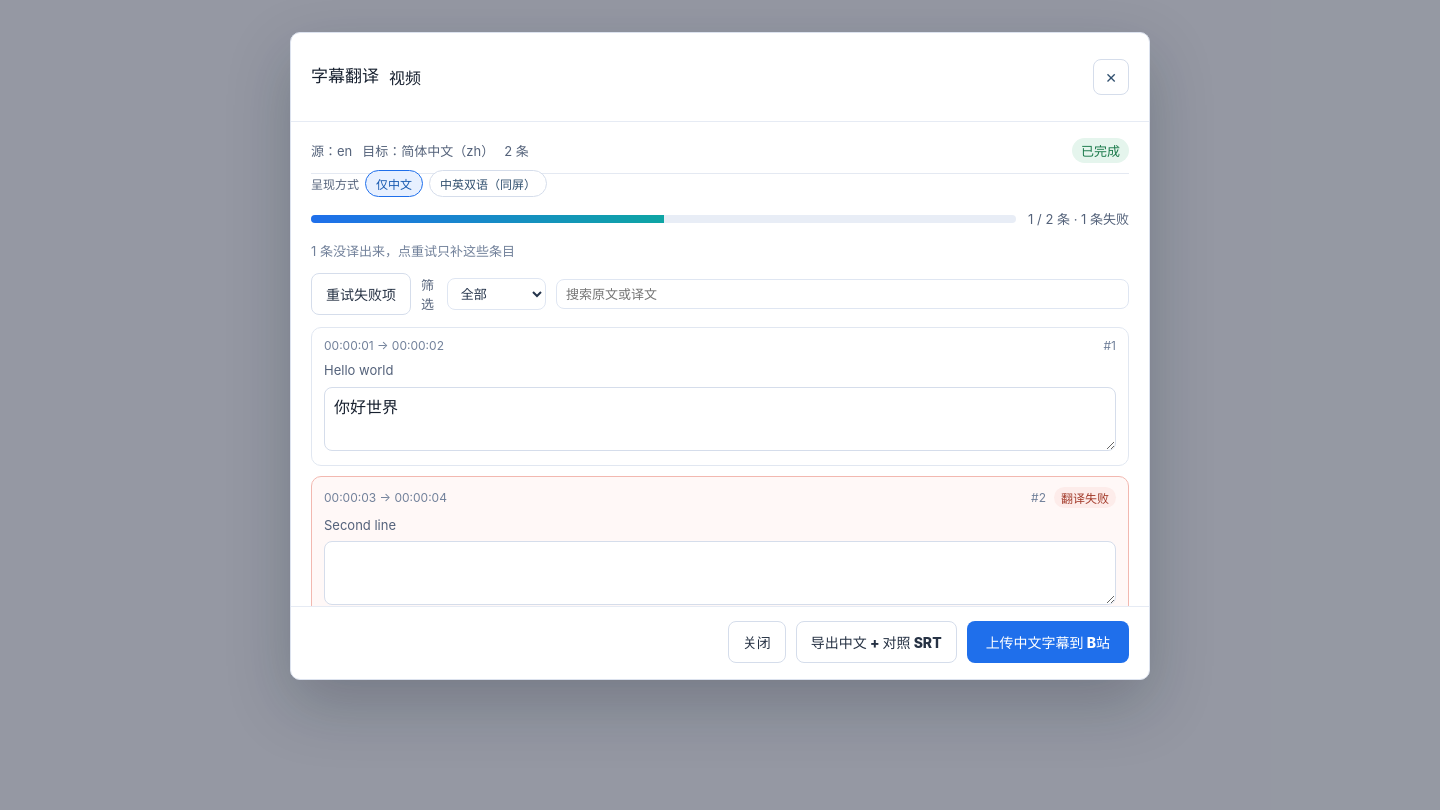
Test: 字幕翻译抽屉 › 导出后可把 zh 轨挂到 B站，并如实显示结论
Expected: the heading "字幕翻译" is shown, [311,66,379,88]
Click the button "上传中文字幕到 B站" at (1048, 642), box [967,621,1129,663]
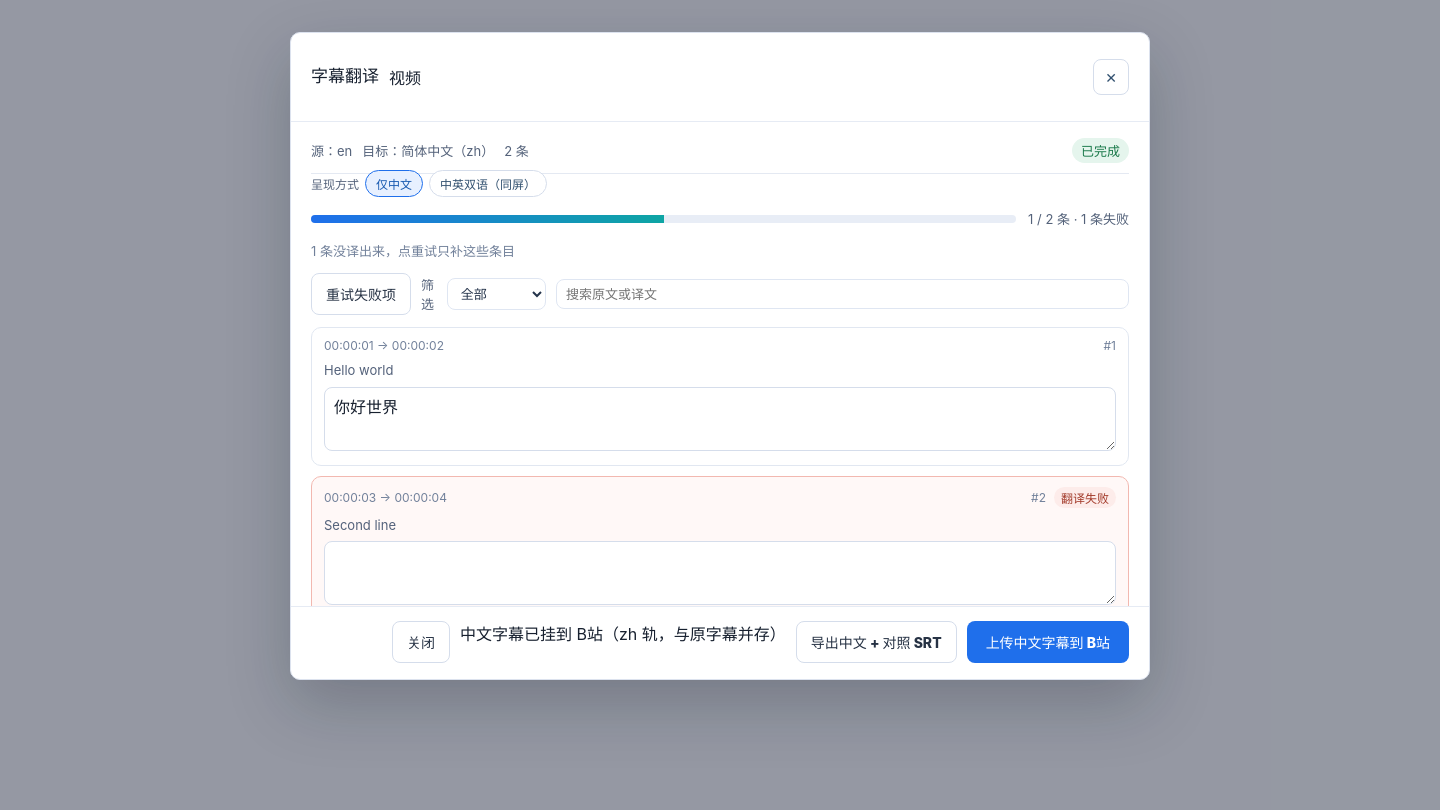
Expected: the text "中文字幕已挂到 B站（zh 轨，与原字幕并存）" is shown, [460,624,786,644]
